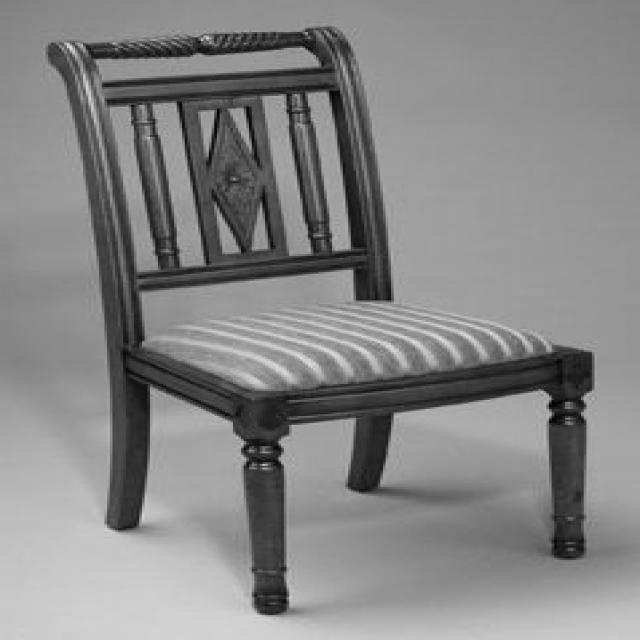chair: (41, 23, 594, 618)
